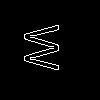W: (24, 24, 68, 71)
